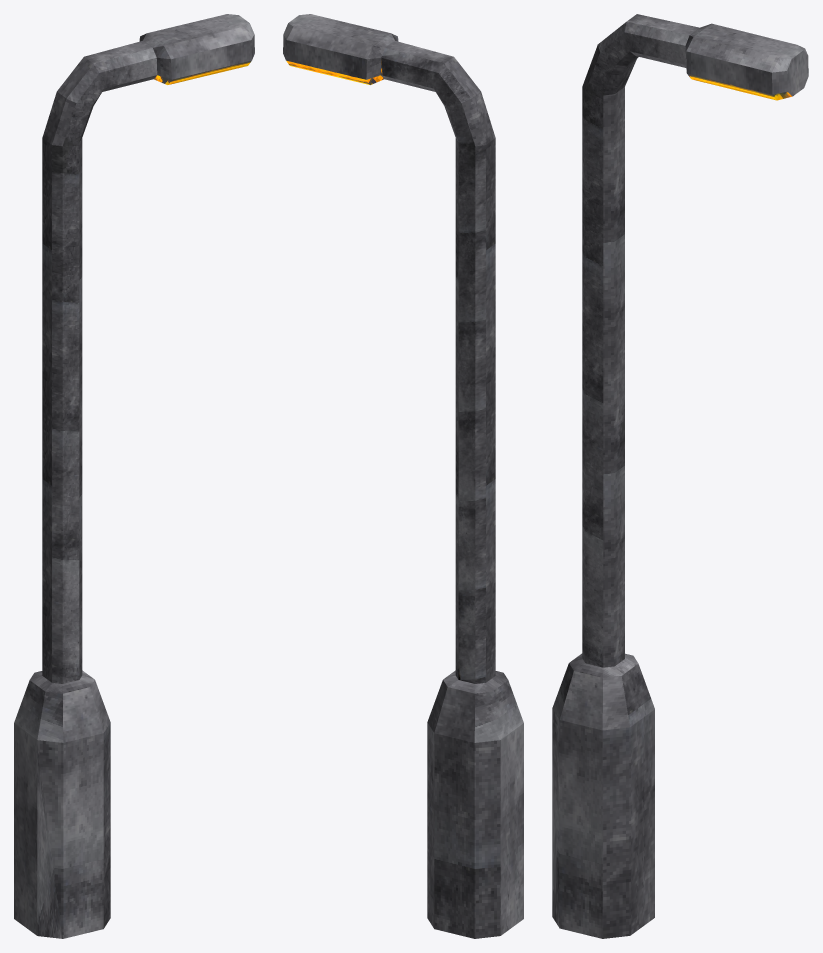
The model's file is low_poly_psx_street_lamp.glb.
3 views of the same model, side by side, from view 1: azimuth 30°, elevation 25°; view 2: azimuth 150°, elevation 25°; view 3: azimuth 330°, elevation 25° (orthographic). The views are drawn at different scales.
Parts seen in each view (by area): view 1: Cube; view 2: Cube; view 3: Cube.
Part boxes in pixels (x1,y1,x2,y2): Cube: (14,14,254,938); Cube: (283,14,523,938); Cube: (552,14,808,938).
Size of the model in its own units: 4.91 by 18.29 by 1.64.
Materials: 1 (1 with a texture image).
